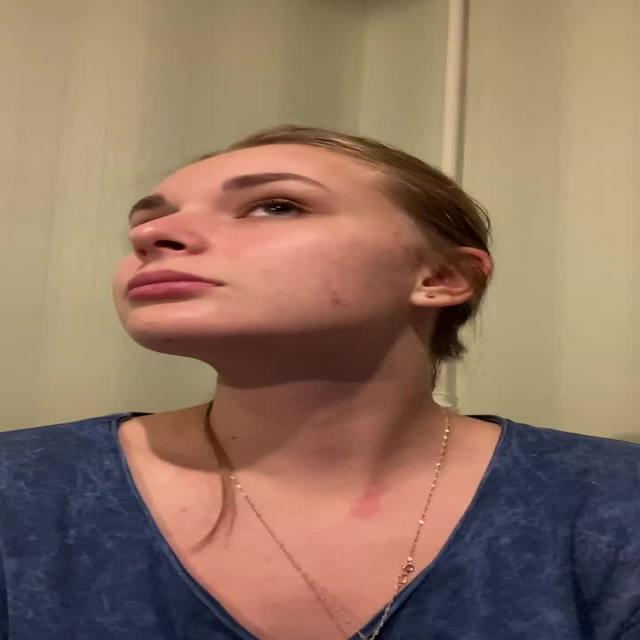earlobe: (412, 285, 450, 309)
eye: (239, 200, 310, 217)
nose: (113, 238, 200, 270)
wholeear: (414, 248, 493, 309)
